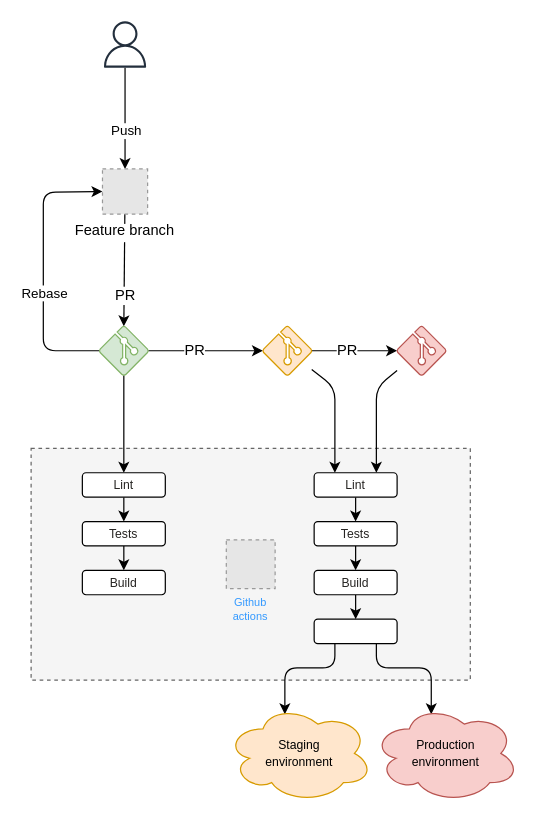
The diagram is 540 pixels wide and 824 high, and some of its shapes have lost their labels. Grey dashed boxes stand in for pictures. Each missing label, with the box of its shape:
Deploy: (313, 618, 397, 644)
dev: (98, 325, 148, 375)
Developer: (101, 21, 148, 67)
main: (396, 325, 446, 375)
release/*: (262, 325, 312, 375)
